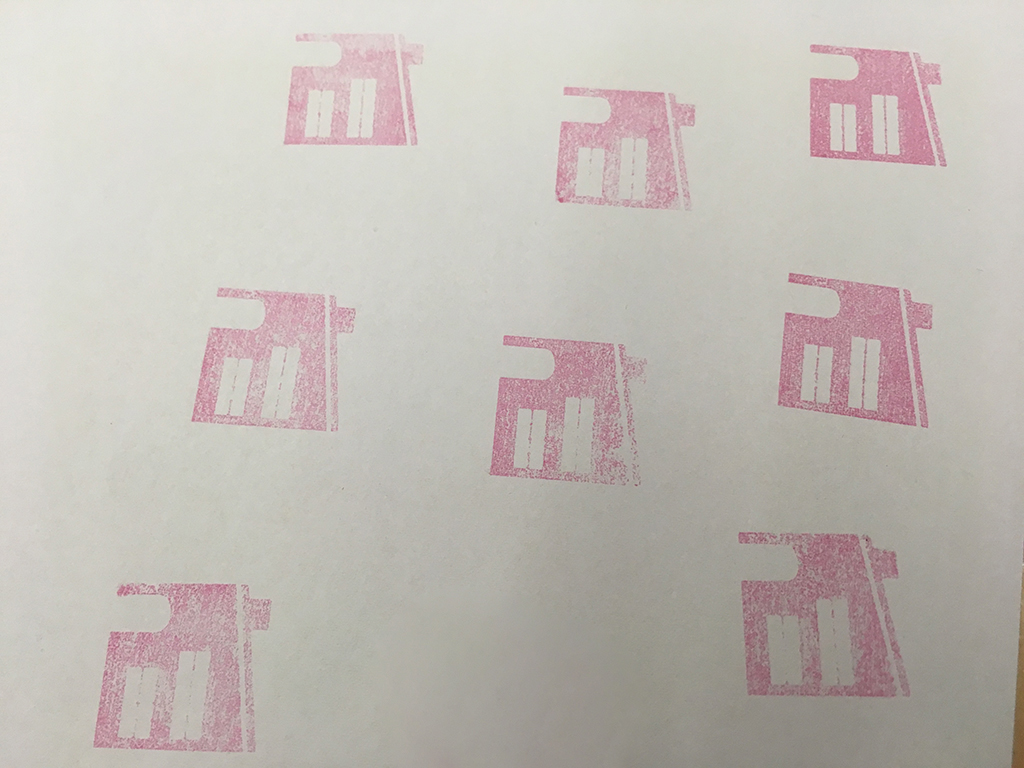house: (725, 515, 931, 706), (87, 571, 278, 760), (477, 325, 666, 505), (769, 256, 948, 437), (188, 275, 366, 441), (798, 32, 960, 175), (548, 75, 703, 221), (276, 25, 441, 153)
